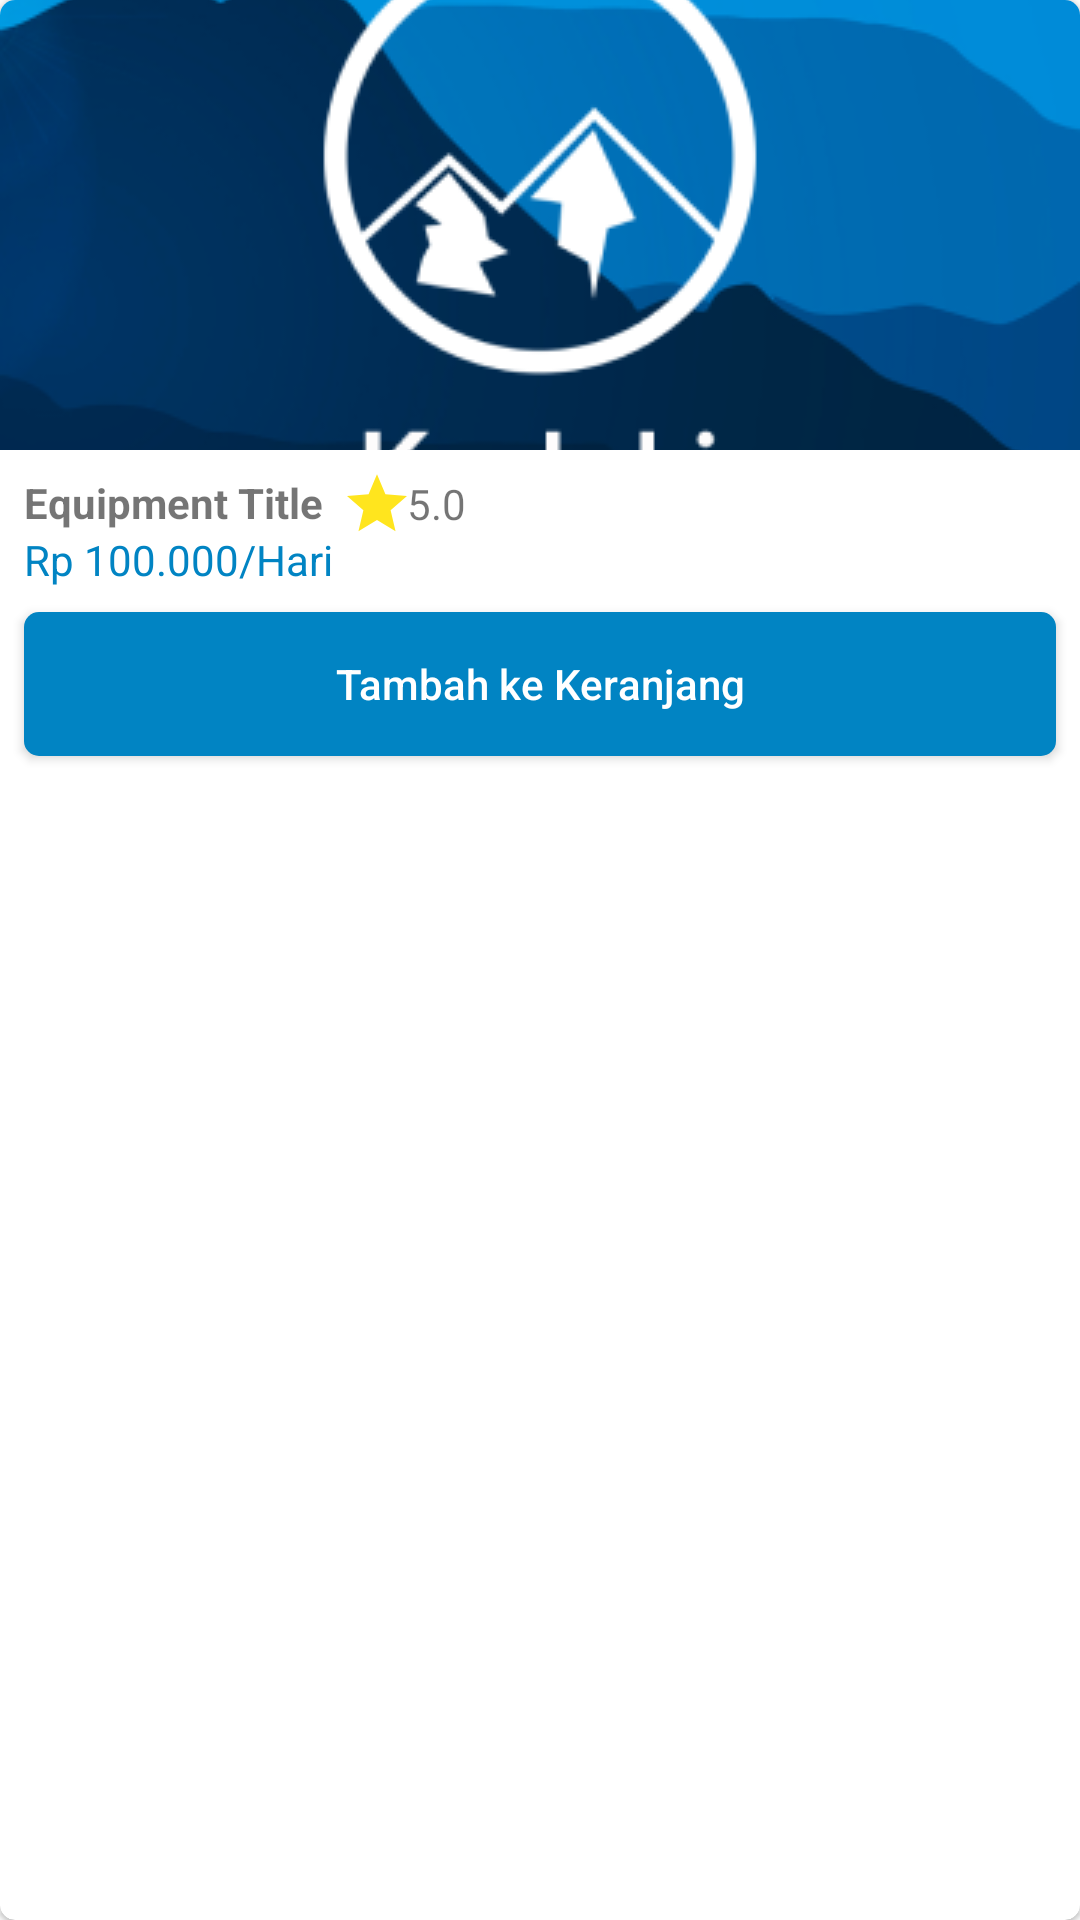

Screen size 1080*1920. Icon name, then its center in pixels as (x=x, y=y):
star: (x=377, y=502)
